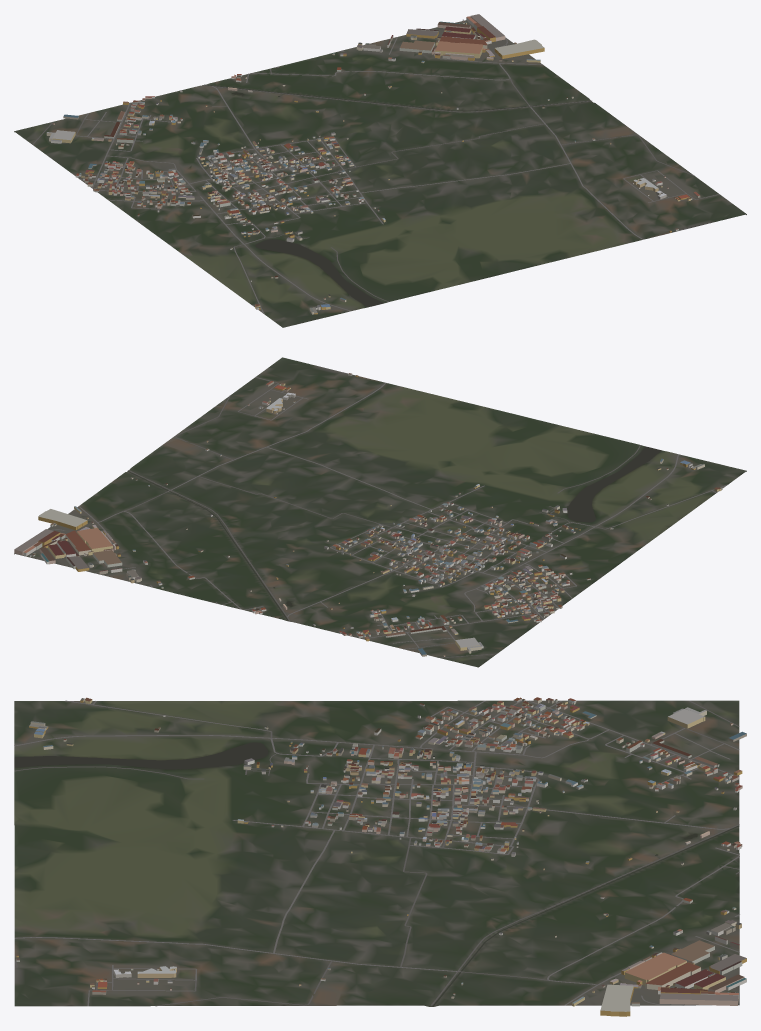
3 renders of one model, top to bottom at view 1: azimuth 30°, elevation 25°; view 2: azimuth 150°, elevation 25°; view 3: azimuth 270°, elevation 25°, orthographic. The views are drawn at different scales.
Parts seen in each view (by area): view 1: ground, buildings, roads, water; view 2: ground, buildings, roads, water; view 3: ground, buildings, roads, water.
Part boxes in pixels (<box>): ground: <box>14,20,746,327</box>; buildings: <box>46,14,700,314</box>; roads: <box>32,37,719,313</box>; water: <box>204,84,590,306</box>; ground: <box>14,357,746,667</box>; buildings: <box>14,373,722,656</box>; roads: <box>51,372,728,657</box>; water: <box>127,446,661,621</box>; ground: <box>14,700,739,1006</box>; buildings: <box>16,697,746,1016</box>; roads: <box>14,700,739,1006</box>; water: <box>15,742,739,1006</box>.
Bounding box in the file's own units: 1456 × 19.09 × 1417.
